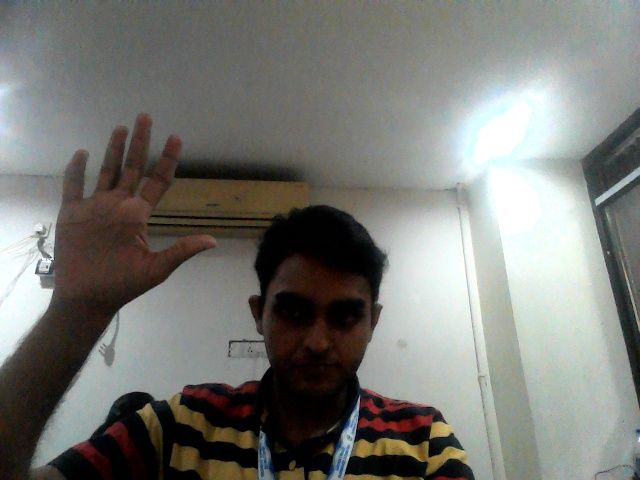palm: (48, 108, 225, 306)
